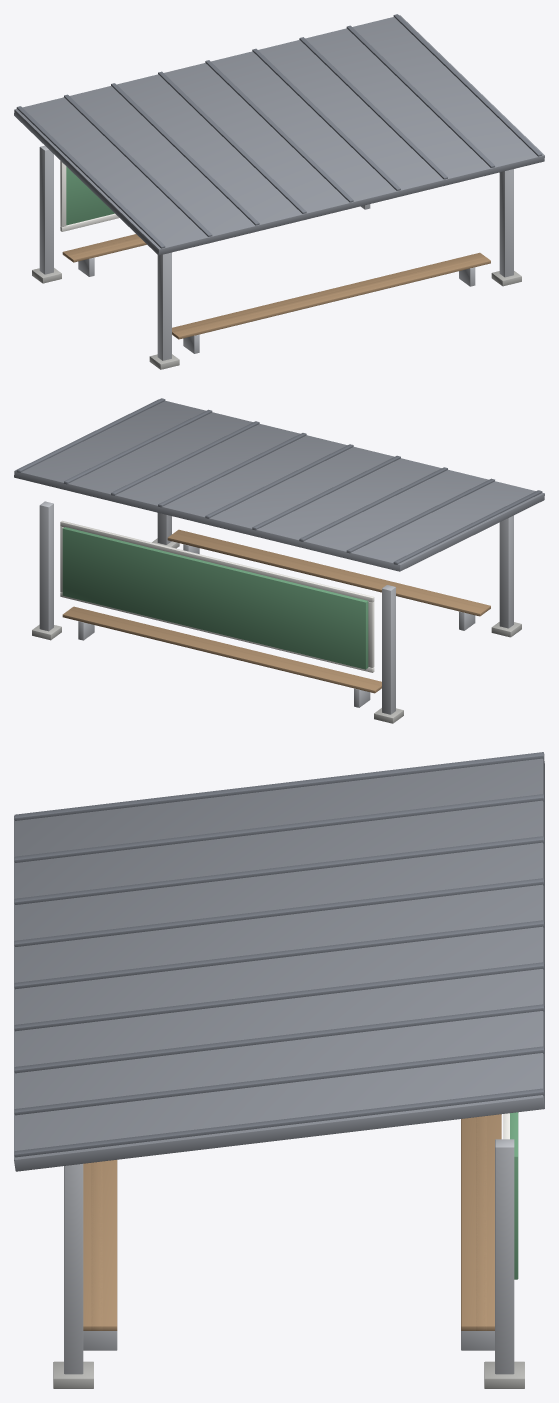
Rendered from th42_pausenhofdach.glb.
The picture shows the model from 3 angles, top to bottom: view 1: azimuth 30°, elevation 25°; view 2: azimuth 150°, elevation 25°; view 3: azimuth 270°, elevation 25°; orthographic projection. The views are drawn at different scales.
Visible parts, largest first — view 1: Cube.008, Cube.019, Cube.002, Cube, Cube.004, Cube.026, Cube.018, Cube.017, Cube.009, Cube.012, Cube.015, Cube.010 (+6 smaller); view 2: Cube.008, Cube.026, Cube.023, Cube.019, Cube.027, Cube.006, Cube.002, Cube, Cube.018, Cube.022, Cube.015, Cube.014 (+10 smaller); view 3: Cube.008, Cube.023, Cube.019, Cube.006, Cube.004, Cube.015, Cube.013, Cube.016, Cube.017, Cube.014, Cube.012, Cube.010 (+7 smaller).
Boxes of the visible parts, <box> form: Cube.008: <box>14,15,544,255</box>; Cube.019: <box>172,252,490,339</box>; Cube.002: <box>39,145,53,274</box>; Cube: <box>157,252,171,360</box>; Cube.004: <box>499,169,513,277</box>; Cube.026: <box>66,166,114,225</box>; Cube.018: <box>172,256,486,336</box>; Cube.017: <box>393,14,542,156</box>; Cube.009: <box>16,106,165,248</box>; Cube.012: <box>158,71,306,213</box>; Cube.015: <box>299,37,447,179</box>; Cube.010: <box>64,94,212,236</box>; Cube.008: <box>14,399,544,571</box>; Cube.026: <box>62,527,368,669</box>; Cube.023: <box>62,606,381,693</box>; Cube.019: <box>167,529,490,616</box>; Cube.027: <box>60,520,374,602</box>; Cube.006: <box>39,501,53,631</box>; Cube.002: <box>382,585,395,714</box>; Cube: <box>499,515,513,628</box>; Cube.018: <box>172,532,486,613</box>; Cube.022: <box>68,609,381,690</box>; Cube.015: <box>111,421,259,495</box>; Cube.014: <box>158,433,306,507</box>; Cube.008: <box>14,758,544,1171</box>; Cube.023: <box>461,1114,501,1330</box>; Cube.019: <box>83,1160,117,1330</box>; Cube.006: <box>495,1139,514,1374</box>; Cube.004: <box>64,1164,83,1374</box>; Cube.015: <box>14,1004,544,1073</box>; Cube.013: <box>14,920,544,989</box>; Cube.016: <box>14,1046,544,1115</box>; Cube.017: <box>14,1088,544,1157</box>; Cube.014: <box>14,962,544,1031</box>; Cube.012: <box>14,878,544,946</box>; Cube.010: <box>14,794,544,862</box>.
Size of the model in its own units: 8.4 by 3.48 by 5.47.
